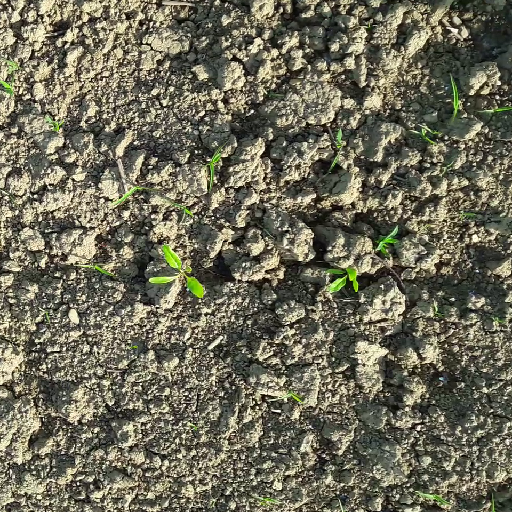sugarbeet: (140, 246, 205, 301), (322, 266, 363, 294)
weed: (108, 178, 175, 204), (198, 142, 229, 188), (371, 228, 400, 260), (443, 72, 459, 126), (411, 127, 444, 148), (169, 202, 197, 225), (71, 265, 115, 278), (331, 127, 343, 170), (476, 103, 512, 117), (415, 492, 457, 504), (3, 57, 26, 75), (47, 115, 66, 134), (279, 389, 301, 403), (1, 81, 16, 101), (254, 497, 282, 504)
